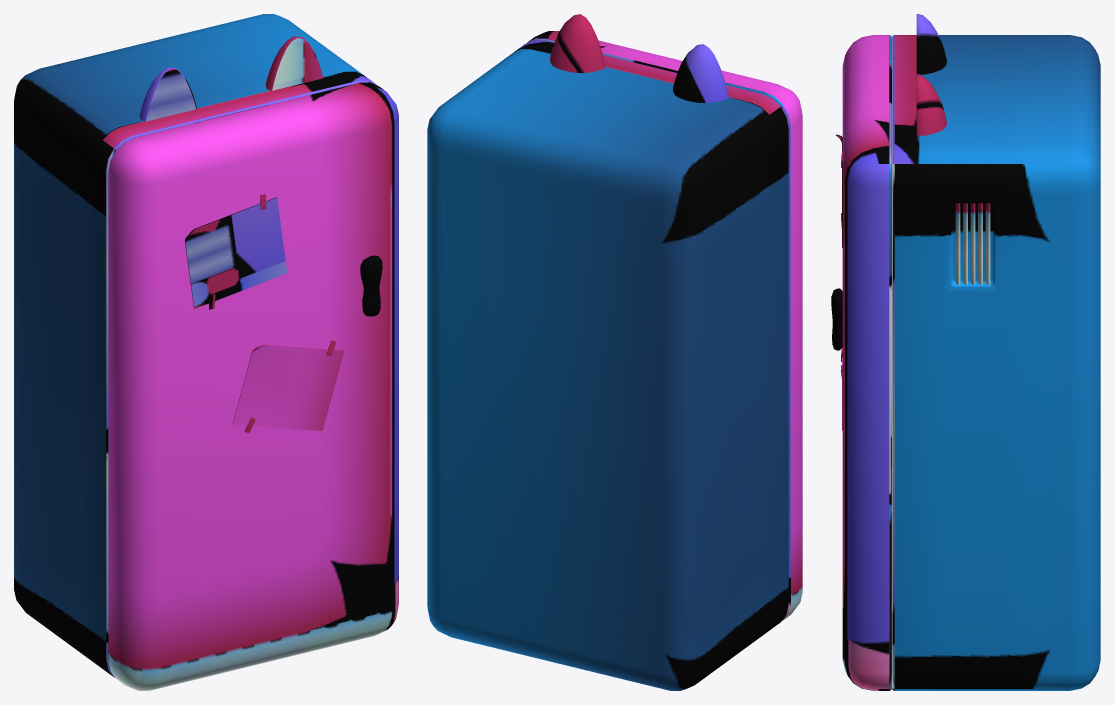
3 renders of one model, left to right at view 1: azimuth 30°, elevation 25°; view 2: azimuth 150°, elevation 25°; view 3: azimuth 270°, elevation 25°, orthographic. The views are drawn at different scales.
Parts seen in each view (by area): view 1: Cube.020, Fridge, Cube.023; view 2: Fridge, Cube.020; view 3: Fridge, Cube.020, Cube.023.
Boxes of the visible parts, box(x1,y1,x2,y2) form: Cube.020: box(108, 82, 398, 690); Fridge: box(14, 14, 376, 677); Cube.023: box(360, 255, 382, 316); Fridge: box(427, 14, 788, 690); Cube.020: box(527, 31, 802, 620); Fridge: box(892, 14, 1100, 690); Cube.020: box(836, 35, 891, 690); Cube.023: box(831, 288, 842, 350).
Bounding box in the file's own units: 886 × 748 × 1804.
